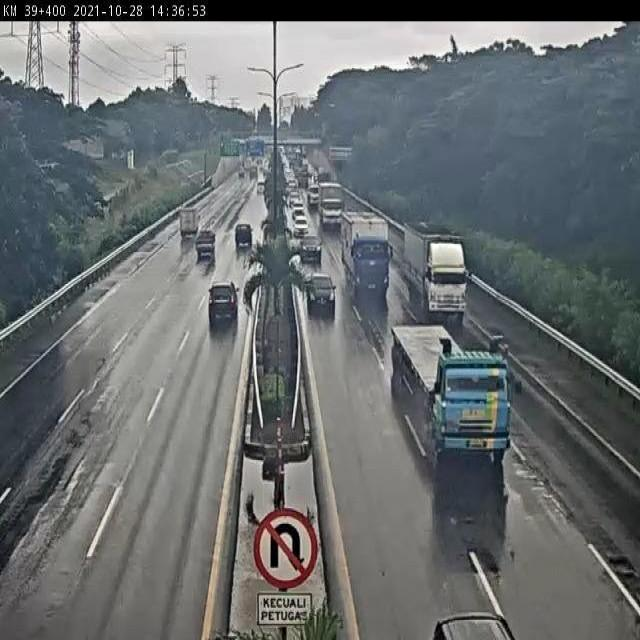big truck: (382, 304, 530, 477), (379, 204, 489, 319), (337, 201, 399, 299), (314, 175, 351, 229)
car: (185, 267, 248, 340), (426, 601, 522, 640), (298, 262, 349, 322), (187, 213, 223, 264), (293, 232, 330, 272), (227, 213, 259, 256), (289, 207, 312, 237)
small truck: (164, 197, 210, 248)
